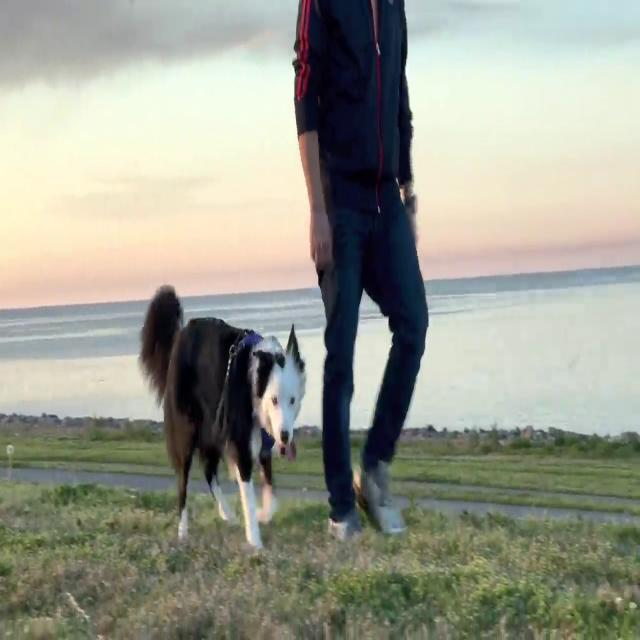Unleashed_Dog: (138, 205, 398, 549)
